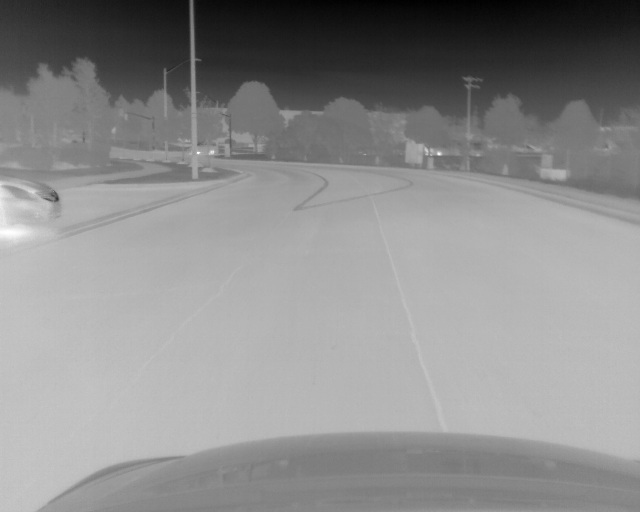car: (1, 172, 62, 233), (192, 142, 215, 160)
